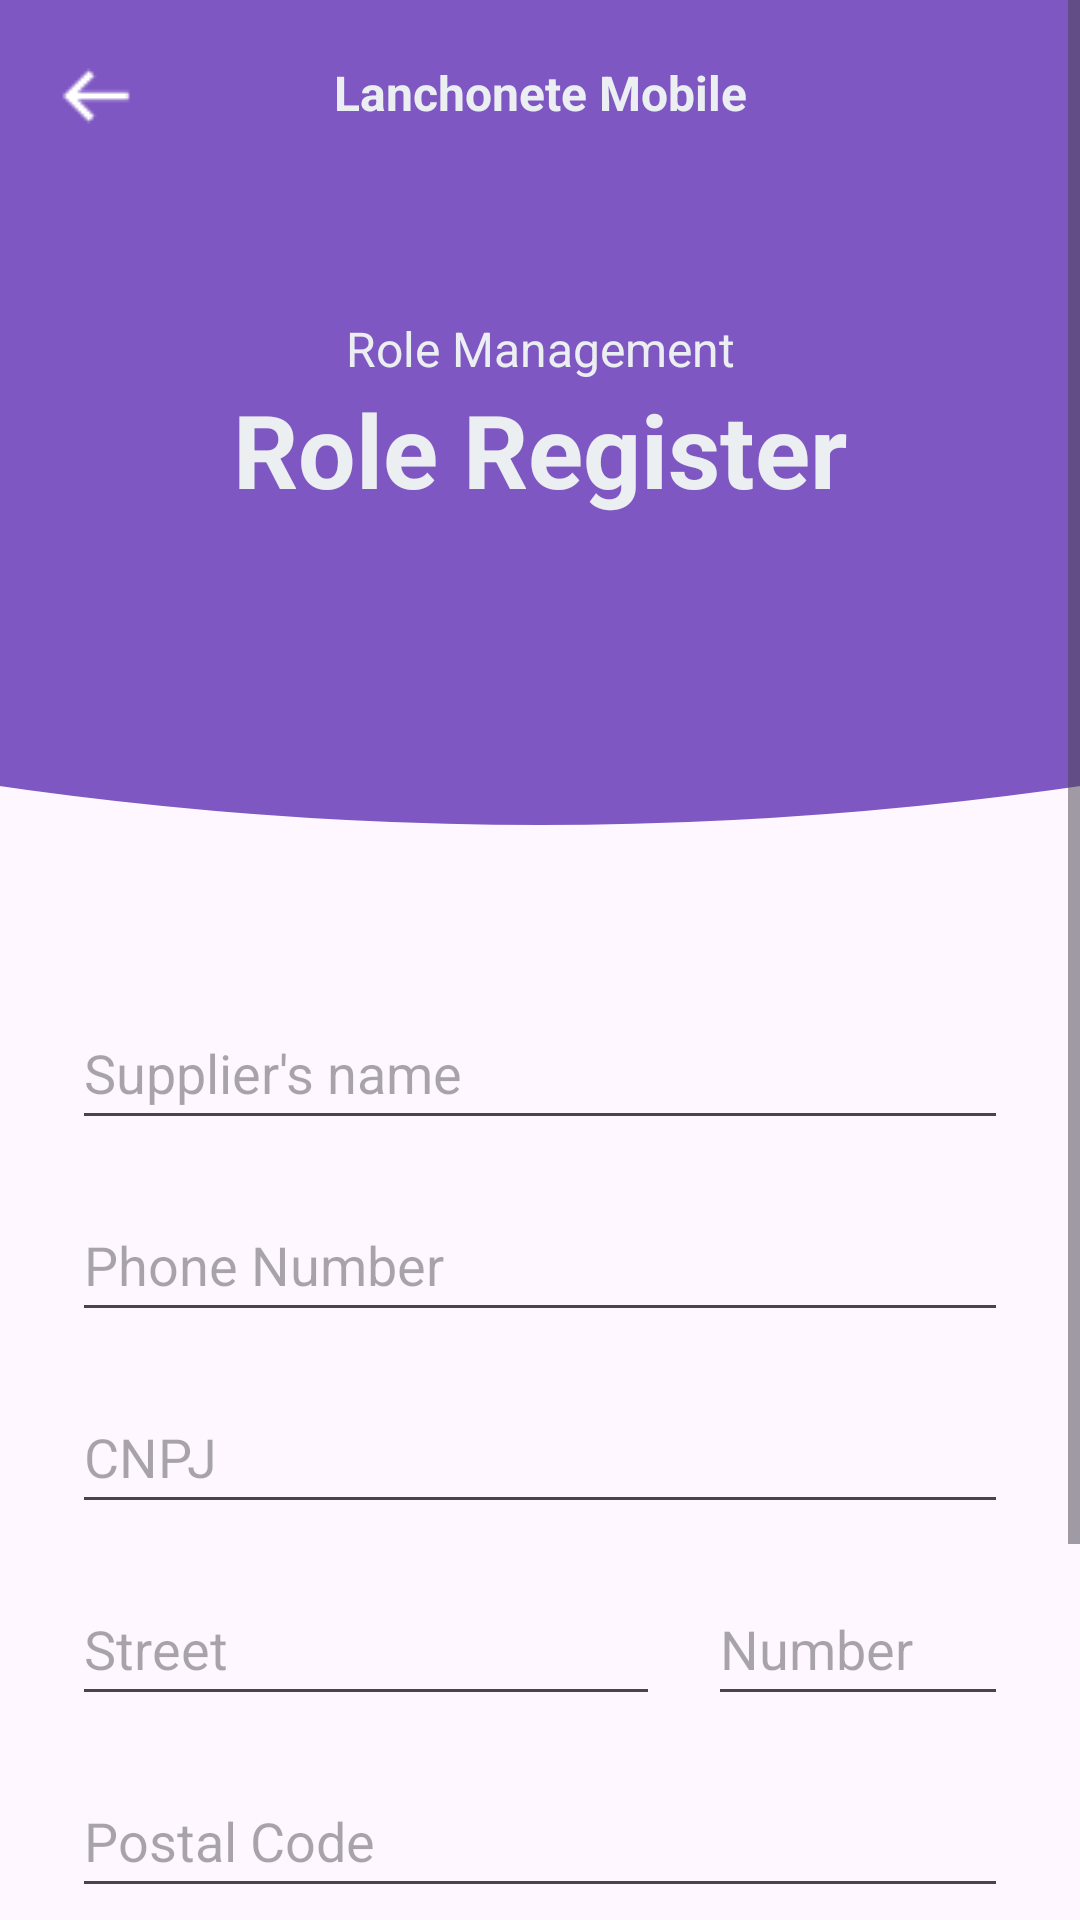

Where to tap for icons on this 1080 × 1920 app screen, as [x,y]:
Back: [96,96]
